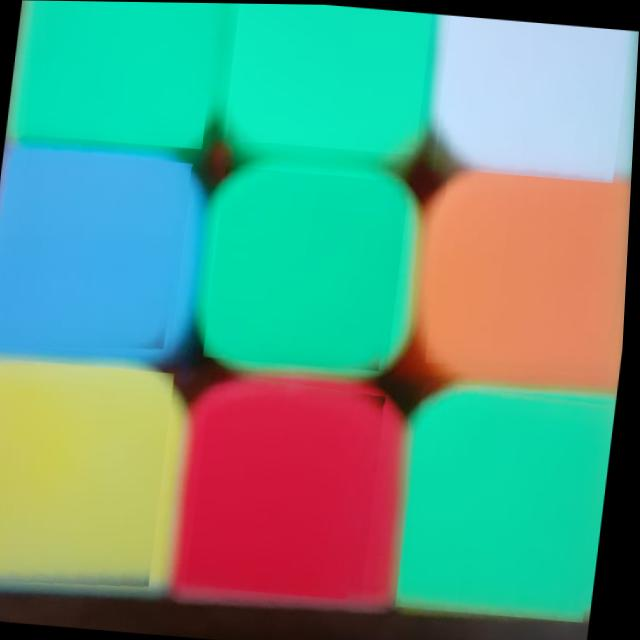Blue: (0, 148, 195, 361)
Green: (401, 379, 621, 621), (206, 165, 412, 371), (224, 3, 432, 153), (16, 0, 219, 149)
Orange: (428, 168, 633, 378)
Red: (191, 371, 392, 600)
White: (433, 14, 632, 185)
Yellow: (0, 356, 178, 594)
